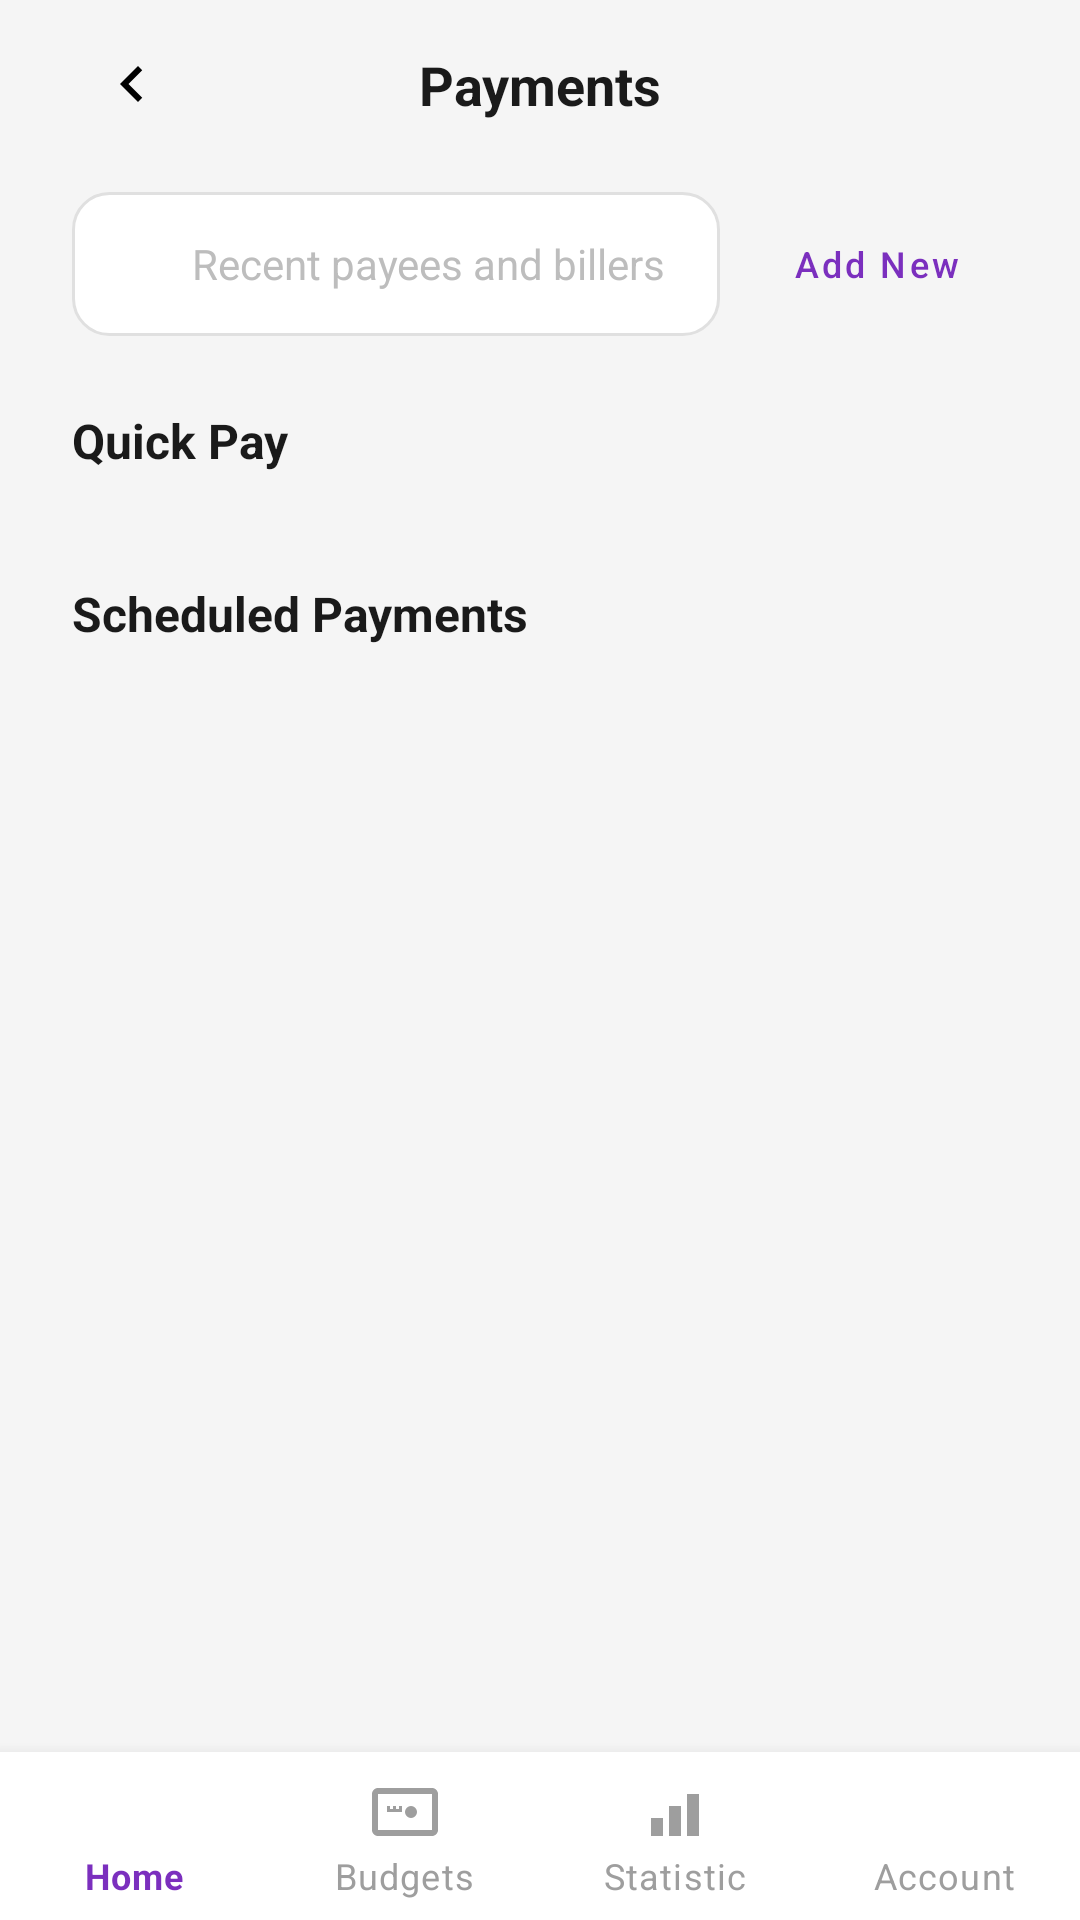

Point at icon controls on the screen. Image size 1080×1920, points as (x,y).
Go back: (131,84)
